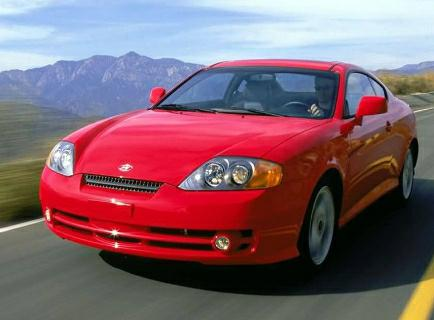car: (25, 56, 422, 275)
